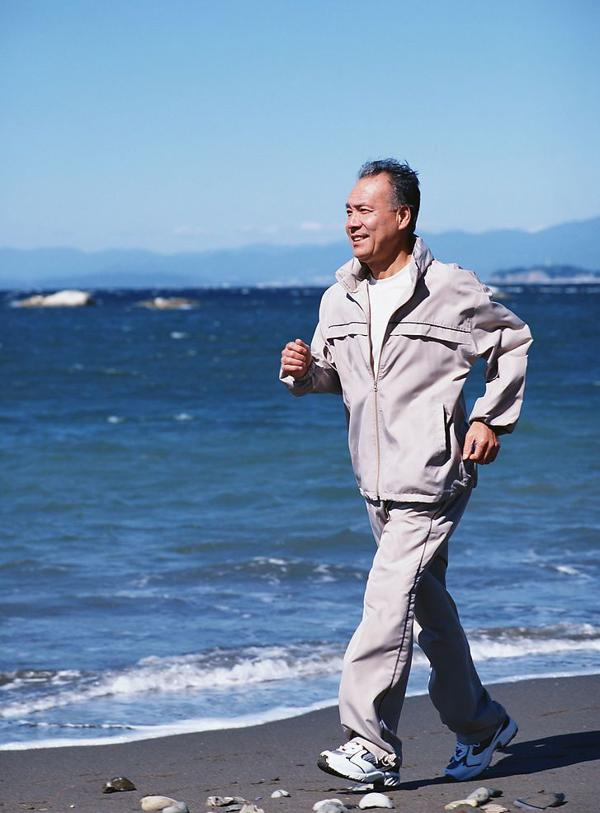person: (281, 158, 532, 788)
